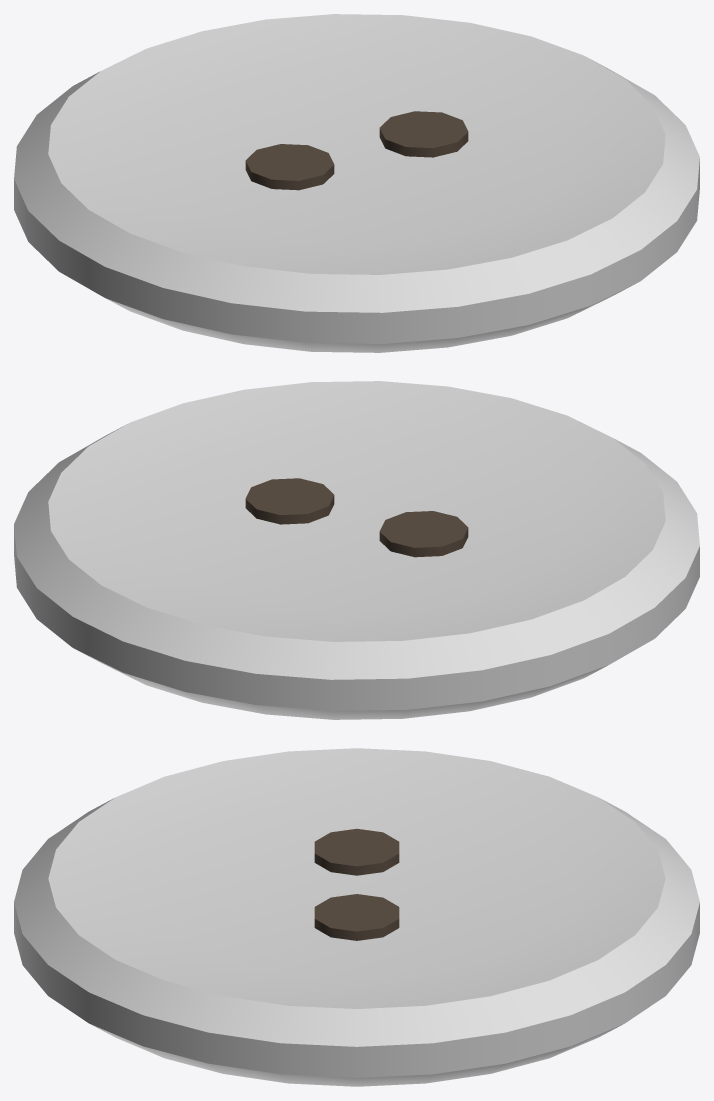
The model's file is button_flat2.glb.
3 renders of one model, top to bottom at view 1: azimuth 30°, elevation 25°; view 2: azimuth 150°, elevation 25°; view 3: azimuth 270°, elevation 25°, orthographic.
Parts seen in each view (by area): view 1: button_flat2; view 2: button_flat2; view 3: button_flat2.
Boxes of the visible parts, x1=… form: button_flat2: x1=14, y1=14, x2=699, y2=352; button_flat2: x1=14, y1=381, x2=699, y2=719; button_flat2: x1=14, y1=748, x2=699, y2=1086.
Size of the model in its own units: 0.04 by 0.005 by 0.04.
